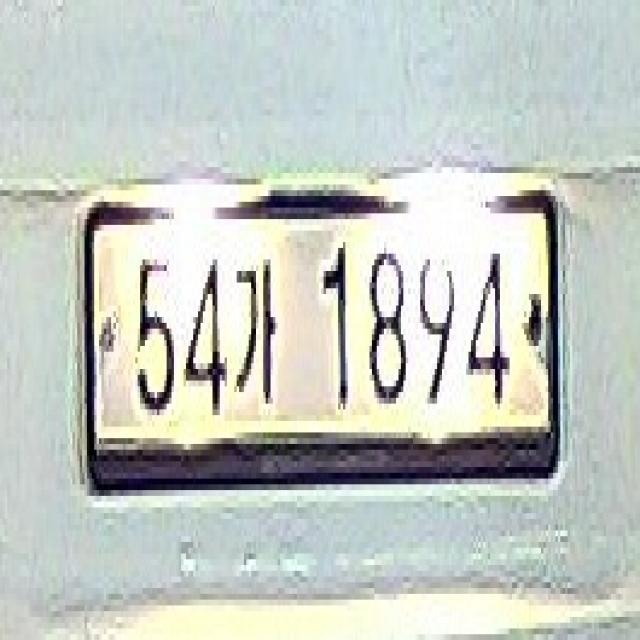1: (316, 230, 362, 427)
4: (456, 219, 514, 421), (176, 236, 232, 427)
5: (128, 225, 179, 415)
8: (358, 230, 410, 432)
9: (408, 219, 459, 433)
ga: (230, 248, 288, 409)
license_plate: (77, 185, 565, 513)
